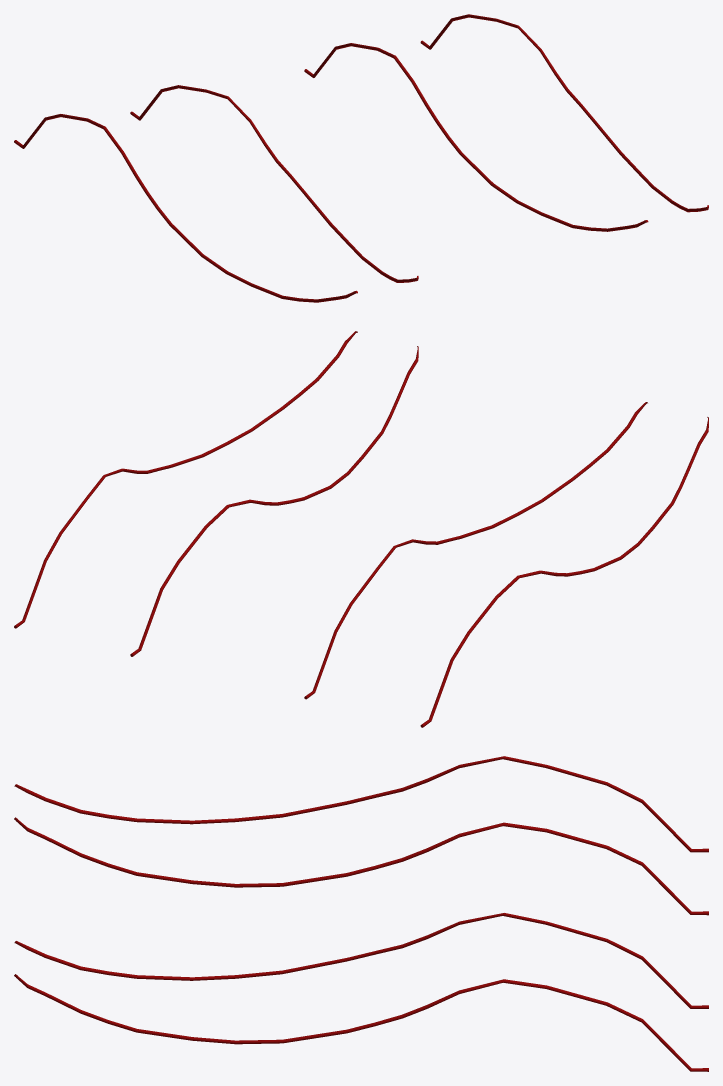
3 views of the same model, one above another, from view 1: azimuth 30°, elevation 25°; view 2: azimuth 150°, elevation 25°; view 3: azimuth 270°, elevation 25° (orthographic). The views are drawn at different scales.
Visible parts, largest first — view 1: pCube18; view 2: pCube18; view 3: pCube18.
Part boxes in pixels (box(x1,y1,x2,y2)): pCube18: box(14, 14, 708, 302); pCube18: box(14, 331, 708, 727); pCube18: box(14, 756, 708, 1071).
Size of the model in its own units: 5.67 by 1.08 by 7.24.
